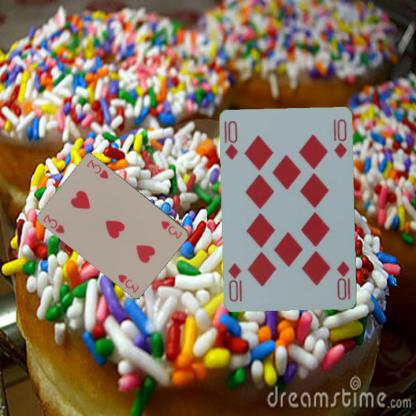10d: (334, 258, 352, 302), (222, 118, 239, 162)
3h: (158, 218, 184, 240), (40, 212, 66, 234)
